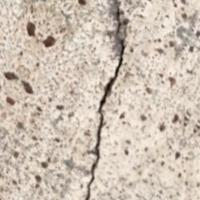crack: (62, 1, 144, 199)
